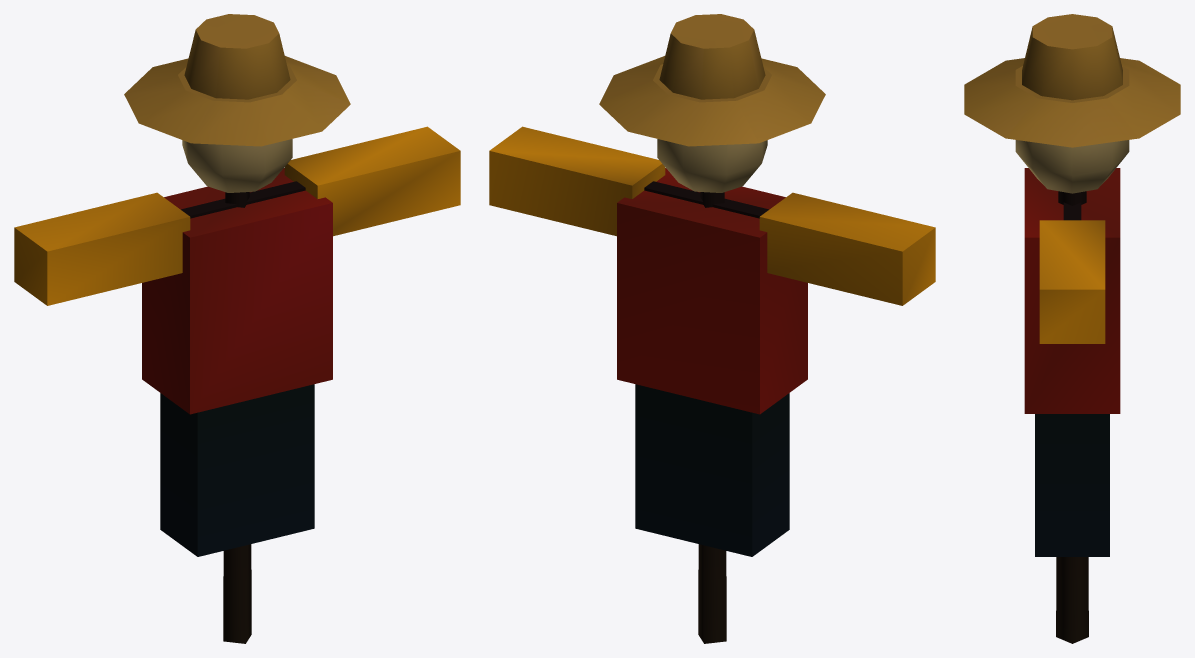
Rendered from fm_scarecrow_lod1.glb.
3 renders of one model, left to right at view 1: azimuth 30°, elevation 25°; view 2: azimuth 150°, elevation 25°; view 3: azimuth 270°, elevation 25°, orthographic.
Parts seen in each view (by area): view 1: fm_scarecrow_lod1; view 2: fm_scarecrow_lod1; view 3: fm_scarecrow_lod1.
Part boxes in pixels (box(x1,y1,x2,y2)): fm_scarecrow_lod1: box(14, 14, 460, 643); fm_scarecrow_lod1: box(489, 14, 935, 643); fm_scarecrow_lod1: box(964, 14, 1180, 643).
Size of the model in its own units: 1.59 by 2.23 by 0.7228.
